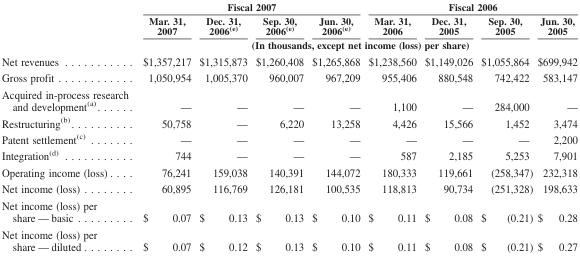table: (1, 0, 576, 252)
table column: (1, 0, 135, 252), (135, 0, 194, 252), (476, 0, 534, 252), (250, 0, 307, 252), (419, 0, 476, 252), (194, 0, 250, 252), (307, 0, 363, 252), (363, 0, 419, 252), (534, 0, 576, 252)
table column header: (1, 0, 576, 52)
table row: (1, 196, 576, 225), (1, 85, 576, 113), (1, 225, 576, 252), (1, 13, 576, 37), (1, 52, 576, 69), (1, 113, 576, 130), (1, 146, 576, 163), (1, 163, 576, 180), (1, 69, 576, 85), (1, 130, 576, 146), (1, 180, 576, 196), (1, 37, 576, 52), (1, 0, 576, 13)
table spanning cell: (135, 37, 576, 52), (135, 0, 363, 13), (363, 0, 576, 13)
